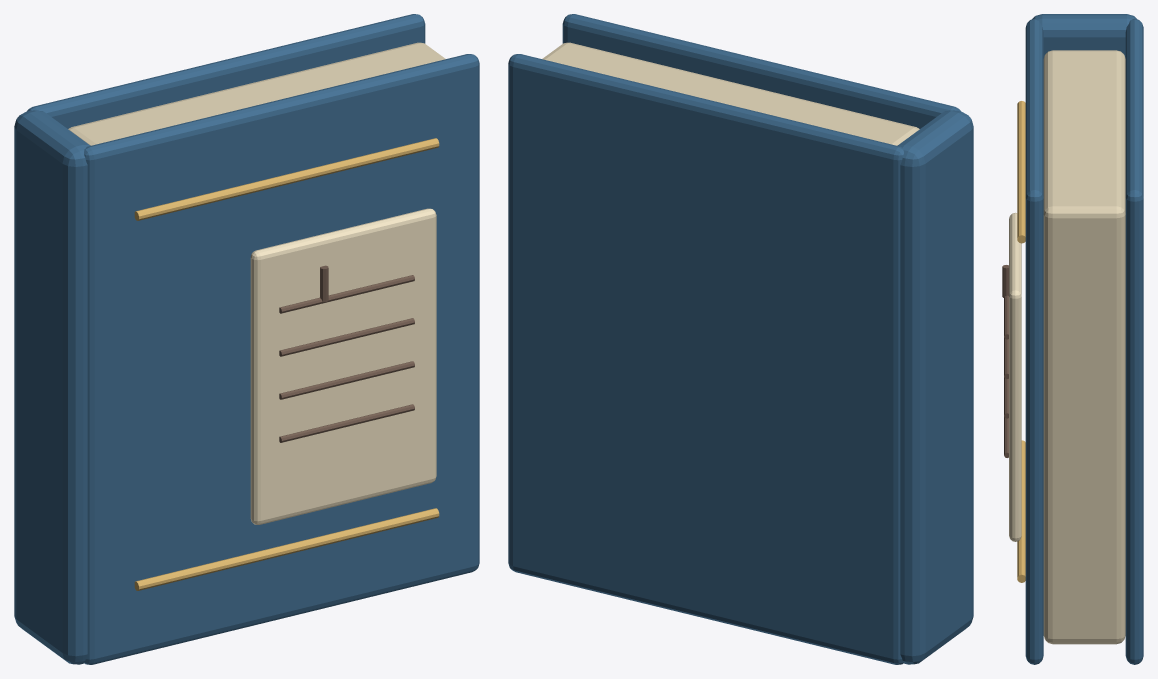
The model's file is book-library-v1-B8tsppGy.glb.
3 views of the same model, side by side, from view 1: azimuth 30°, elevation 25°; view 2: azimuth 150°, elevation 25°; view 3: azimuth 270°, elevation 25° (orthographic). The views are drawn at different scales.
Parts seen in each view (by area): view 1: Front cover, Old library card, Book spine, Back cover, Page block, Bottom rule, Top rule, Card line 4, Card line 2, Card line 3, Card line 1; view 2: Back cover, Book spine, Front cover, Page block; view 3: Page block, Front cover, Back cover, Old library card, Book spine, Top rule, Bottom rule.
Part boxes in pixels (x1,y1,x2,y2): Front cover: (84,54,479,664); Old library card: (250,208,436,524); Book spine: (14,110,90,664); Back cover: (27,14,425,128); Page block: (68,42,445,145); Bottom rule: (134,508,439,590); Top rule: (134,138,439,220); Card line 4: (279,404,414,442); Card line 2: (279,318,414,356); Card line 3: (279,361,414,399); Card line 1: (279,275,414,313); Back cover: (508,54,903,664); Book spine: (897,110,973,664); Front cover: (562,14,960,128); Page block: (542,42,919,145); Page block: (1043,50,1125,644); Front cover: (1025,19,1043,664); Back cover: (1125,19,1143,664); Old library card: (1009,212,1021,541); Book spine: (1032,14,1137,58); Top rule: (1017,101,1025,243); Bottom rule: (1017,440,1025,582).
Size of the model in its own units: 1.7 by 2.04 by 0.551.
